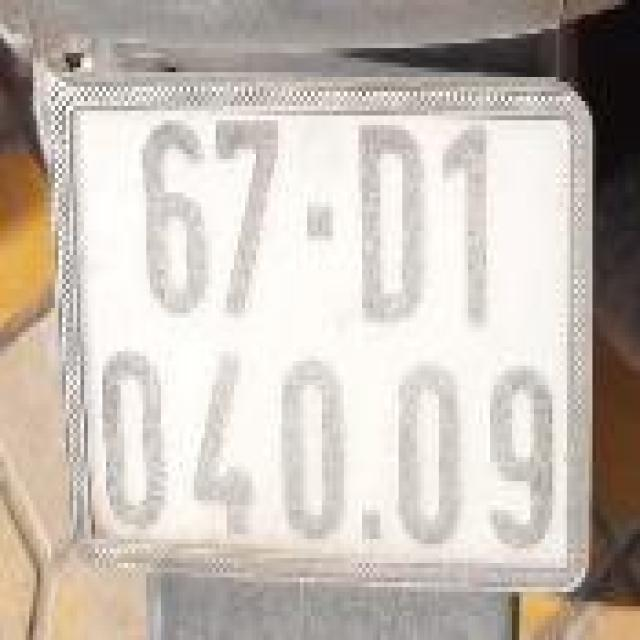0: (263, 342, 355, 539), (388, 349, 472, 560), (91, 325, 176, 532)
1: (440, 120, 496, 347)
4: (179, 342, 260, 539)
6: (133, 118, 214, 320)
7: (208, 108, 278, 315)
9: (479, 358, 563, 560)
D: (353, 118, 433, 339)
